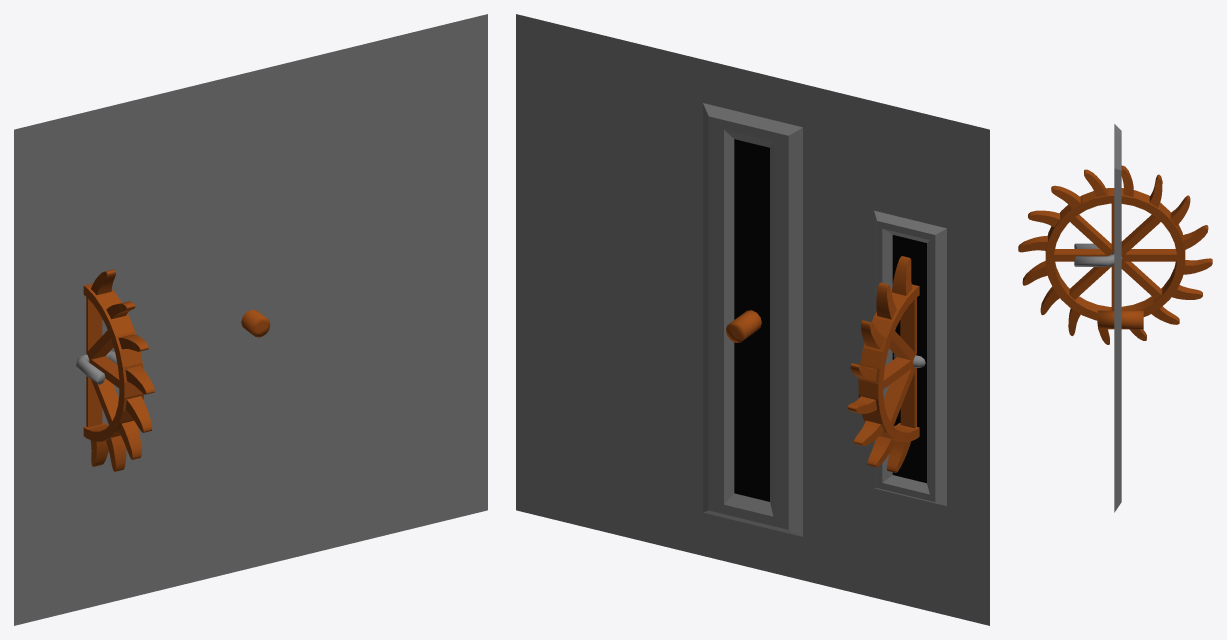
Rendered from bangbaguiquegira.fbx.
3 renders of one model, left to right at view 1: azimuth 30°, elevation 25°; view 2: azimuth 150°, elevation 25°; view 3: azimuth 270°, elevation 25°, orthographic. The views are drawn at different scales.
Visible parts, largest first — view 1: Plane.002, Plane, Cylinder; view 2: Plane, Plane.002, meiacorrenteparede, Cylinder, Cylinder.001; view 3: Cylinder, Plane, Cylinder.001, meiacorrenteparede.
Boxes of the visible parts, x1=… form: Plane.002: x1=14, y1=14, x2=487, y2=625; Plane: x1=109, y1=42, x2=392, y2=599; Cylinder: x1=83, y1=269, x2=154, y2=471; Plane: x1=611, y1=38, x2=894, y2=598; Plane.002: x1=516, y1=14, x2=989, y2=625; meiacorrenteparede: x1=874, y1=210, x2=946, y2=505; Cylinder: x1=848, y1=256, x2=919, y2=472; Cylinder.001: x1=726, y1=310, x2=761, y2=342; Cylinder: x1=1018, y1=165, x2=1212, y2=344; Plane: x1=1114, y1=127, x2=1121, y2=512; Cylinder.001: x1=1098, y1=310, x2=1143, y2=329; meiacorrenteparede: x1=1074, y1=124, x2=1122, y2=266.
Bounding box in the file's own units: 200 × 200 × 84.36.
